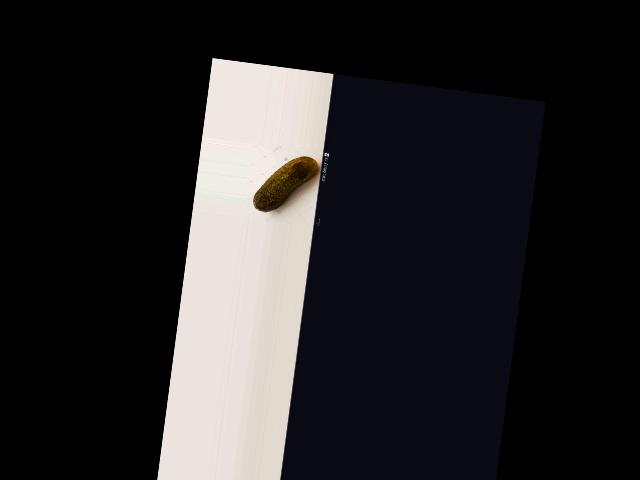cucumber: (252, 150, 319, 218)
